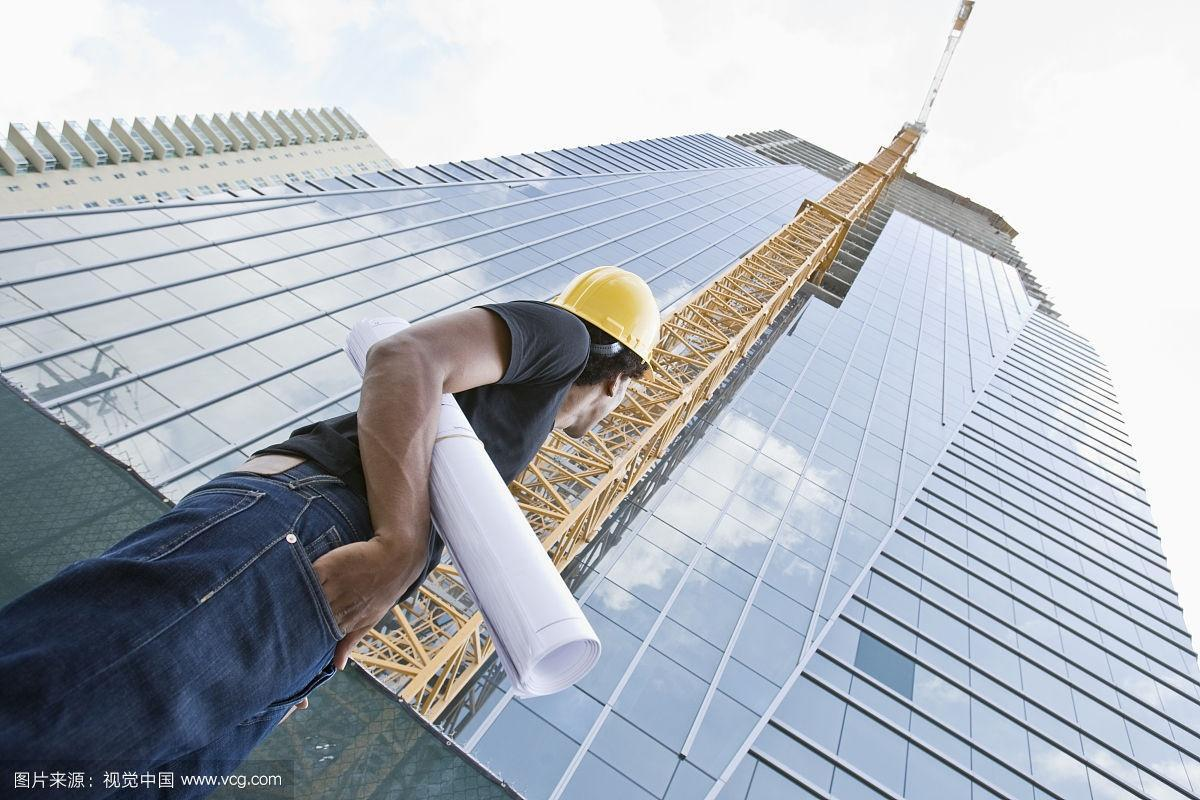helmet: (540, 264, 669, 386)
person: (9, 254, 667, 784)
